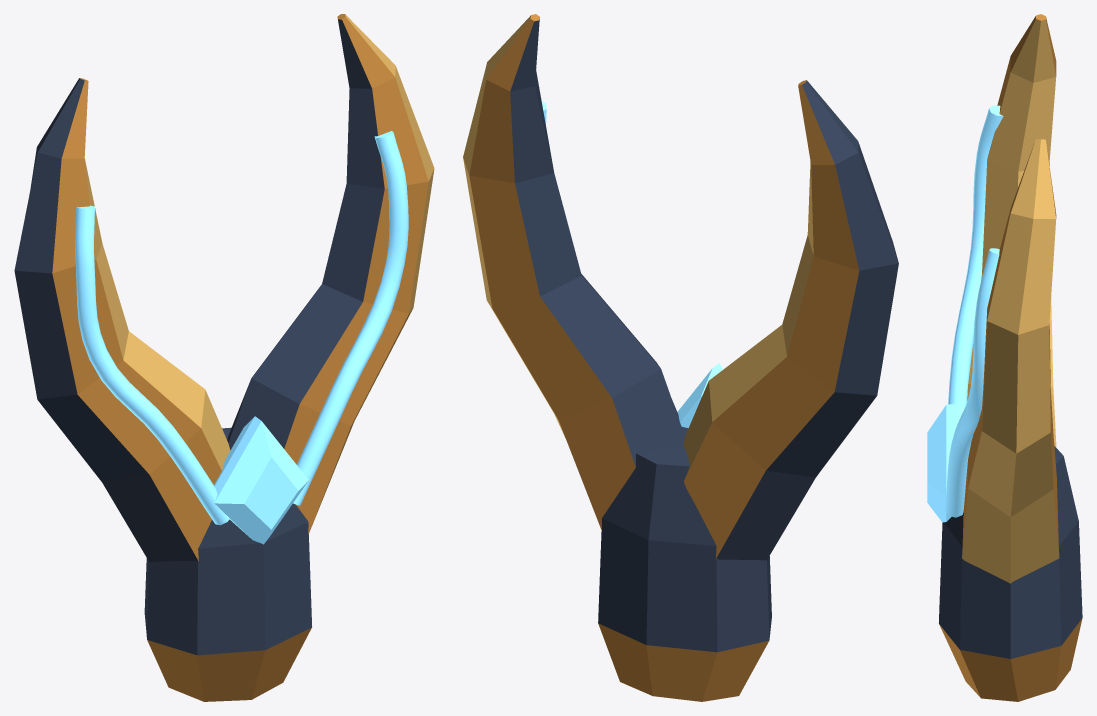
The model's file is Multishot_Attachment.glb.
The picture shows the model from 3 angles, left to right: view 1: azimuth 30°, elevation 25°; view 2: azimuth 150°, elevation 25°; view 3: azimuth 270°, elevation 25°; orthographic projection. The views are drawn at different scales.
Visible parts, largest first — view 1: Multishot_Attachment; view 2: Multishot_Attachment; view 3: Multishot_Attachment.
Part boxes in pixels (x1,y1,x2,y2): Multishot_Attachment: (14,14,434,701); Multishot_Attachment: (463,14,898,701); Multishot_Attachment: (927,14,1082,701).
Size of the model in its own units: 1.24 by 1.76 by 0.4098.
